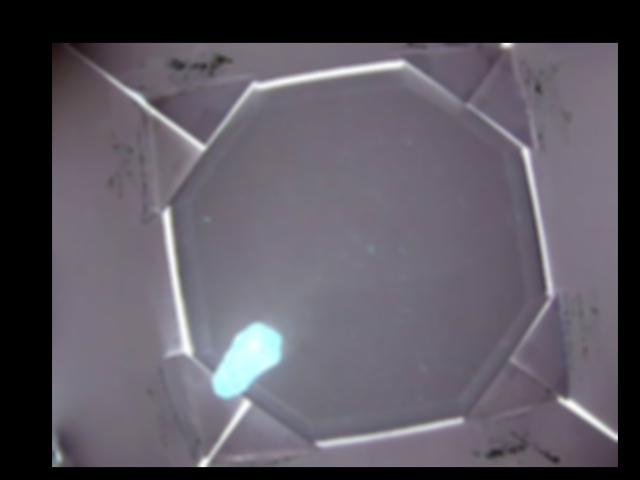Brisk: (208, 323, 282, 396)
